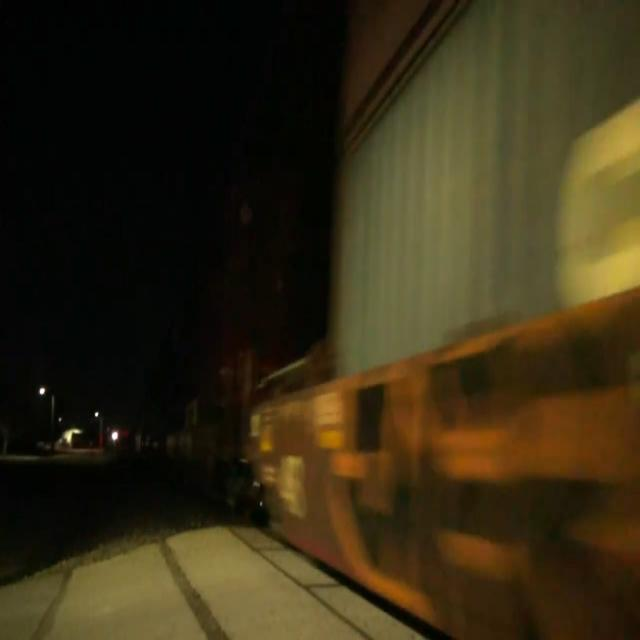container: (318, 0, 640, 423)
flatcar: (233, 271, 640, 638)
